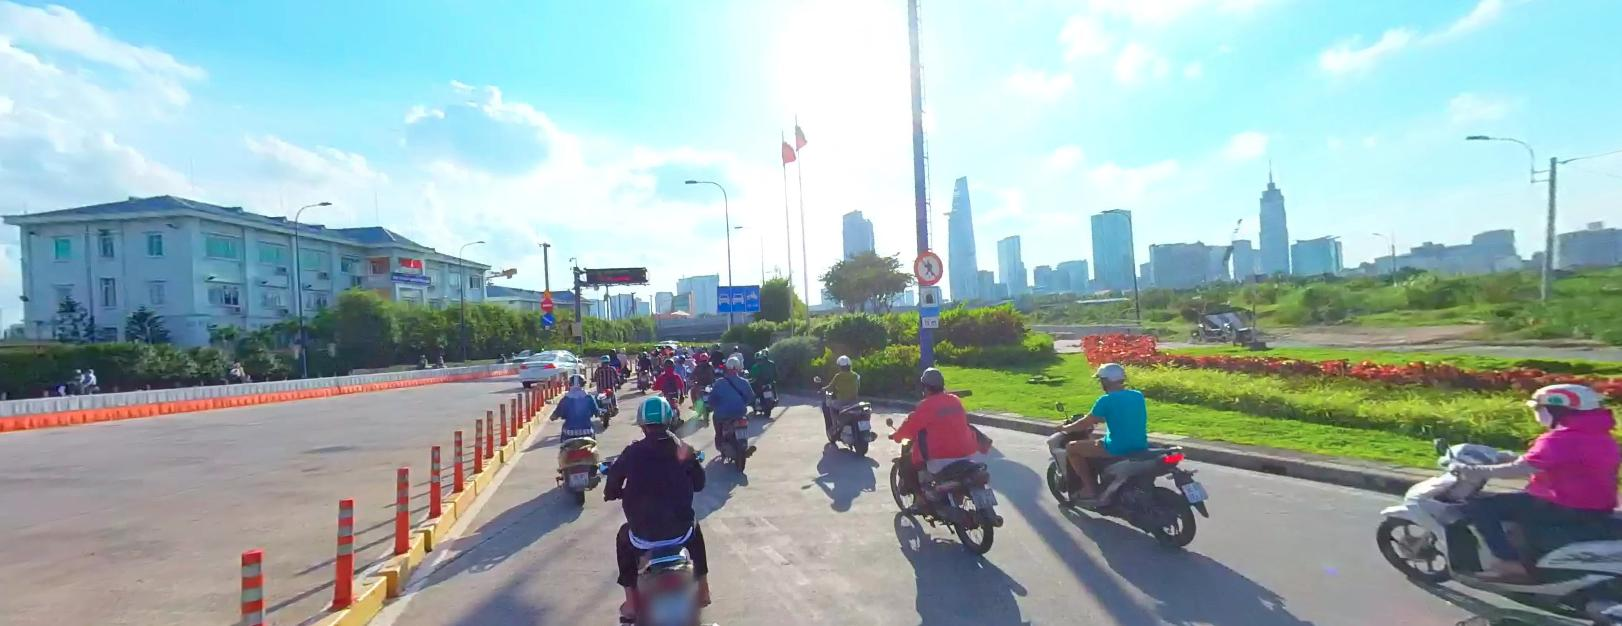Cam con lai: (913, 251, 942, 284)
Cam nguoc chieu: (540, 297, 551, 310)
Hieu lenh: (541, 311, 553, 323)
Nguy hiem: (541, 287, 552, 295)
